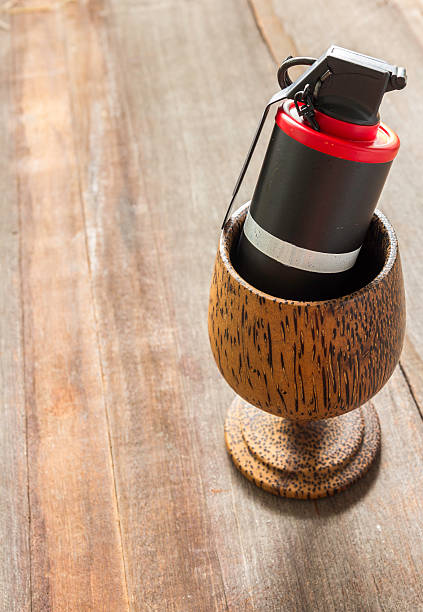e1: (222, 45, 409, 285)
